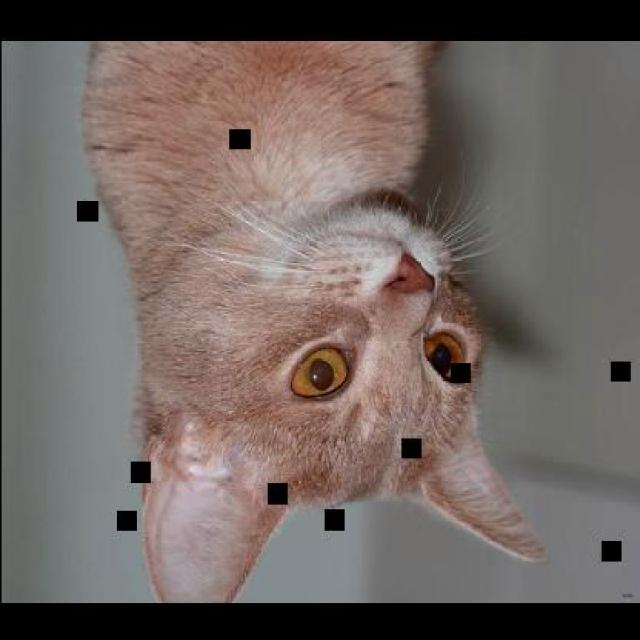unauthorized: (79, 39, 548, 603)
